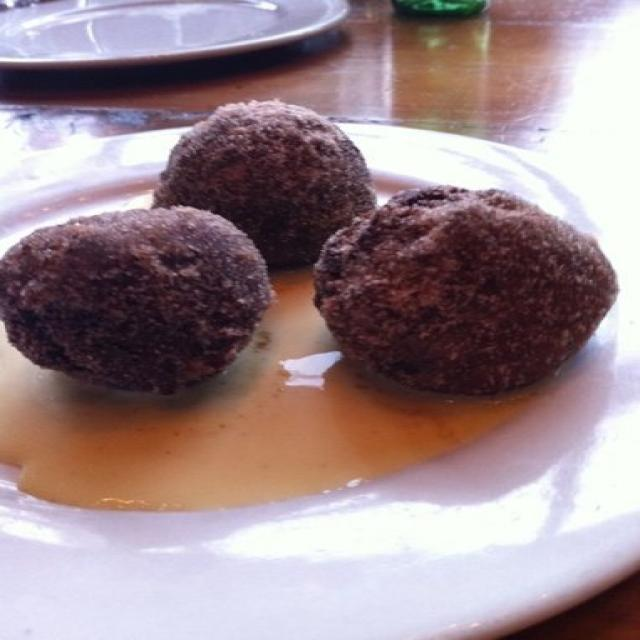Donuts: (2, 77, 625, 423)
